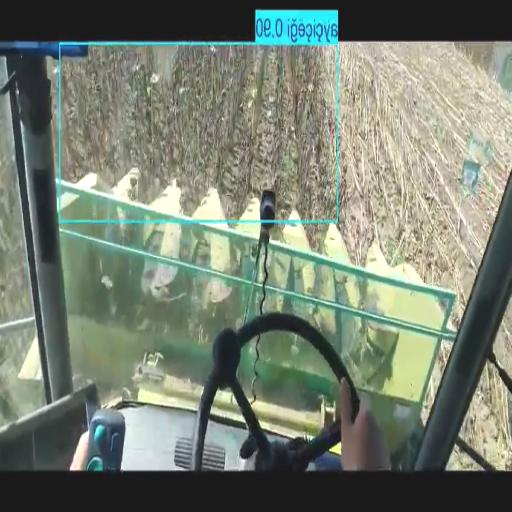ayc: (62, 47, 335, 216)
